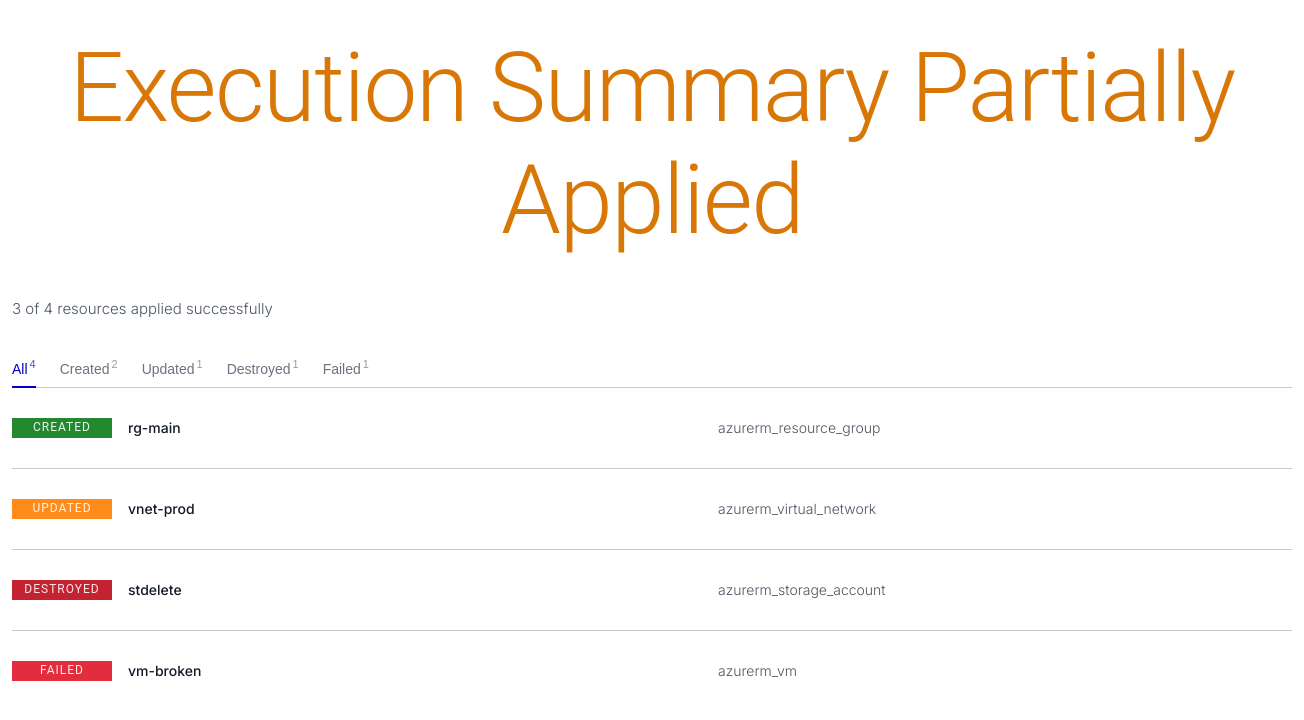
ApplyResultView › filters by failed status
The width and height of the screenshot is (1304, 720).
Click the button "Failed1" at point(346, 369), box [323,350,369,388]
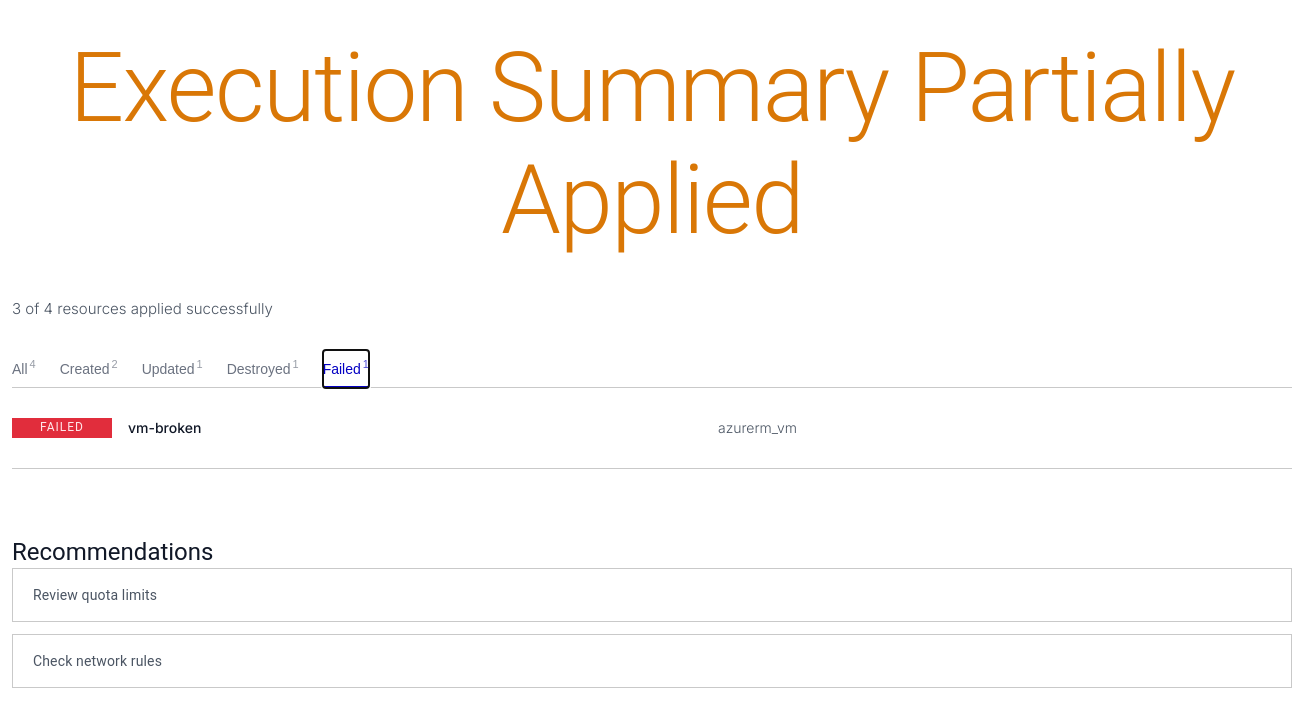
Now the text "vm-broken" is shown, box [128,420,201,436]
Now the text "rg-main" is gone
